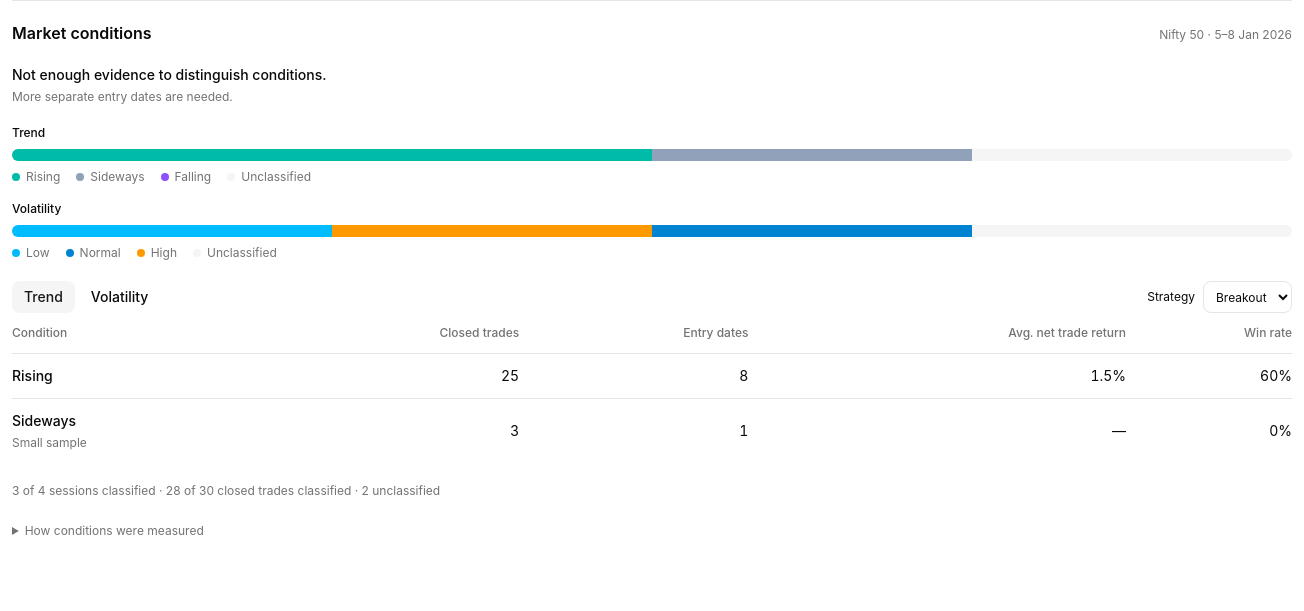
saved market conditions › does not add another preparation action when complete and keeps measurement details collapsed
Expected: the text "Each entry uses only previously available market closes." is not shown
Click the heading "How conditions were measured".
click(108, 531)  # box [12,519,204,543]
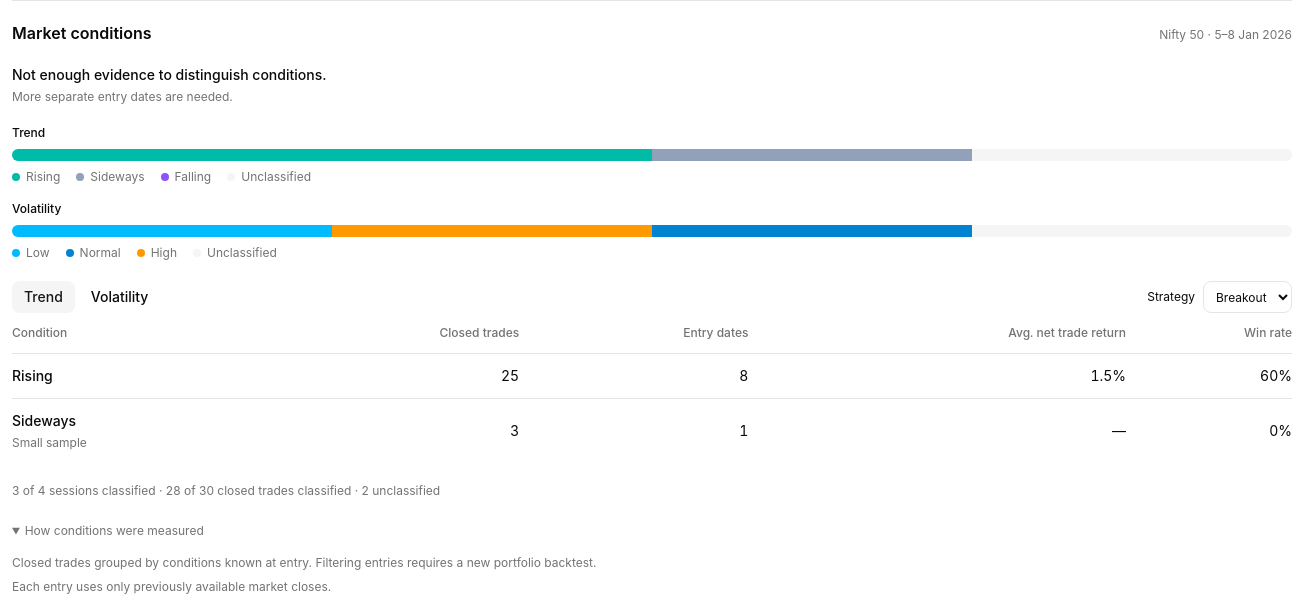
Now the text "Each entry uses only previously available market closes." is shown, box [12,579,331,594]
